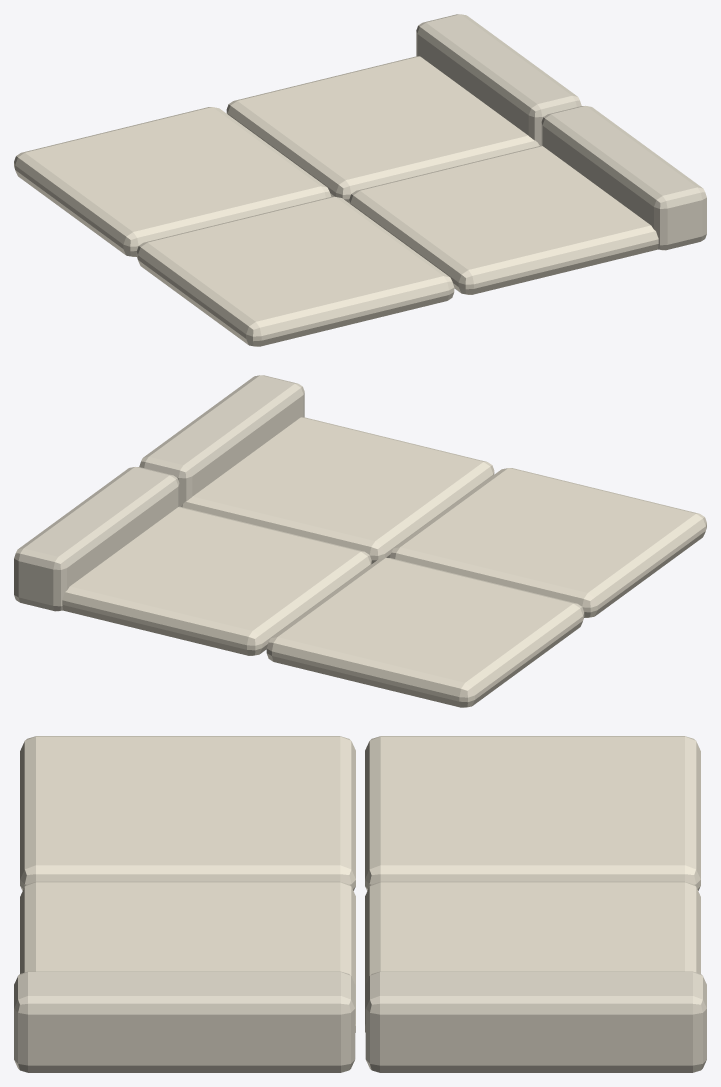
File: Test_CheonRef_PathBorder.fbx
3 views of the same model, one above another, from view 1: azimuth 30°, elevation 25°; view 2: azimuth 150°, elevation 25°; view 3: azimuth 270°, elevation 25° (orthographic). The views are drawn at different scales.
Visible parts, largest first — view 1: BroadPathSlab.004, BroadPathSlab.006, BroadPathSlab.005, BroadPathSlab.007, LowPathEdging, LowPathEdging.001; view 2: BroadPathSlab.005, BroadPathSlab.007, BroadPathSlab.004, BroadPathSlab.006, LowPathEdging.001, LowPathEdging; view 3: BroadPathSlab.004, BroadPathSlab.005, LowPathEdging, LowPathEdging.001, BroadPathSlab.006, BroadPathSlab.007.
Part boxes in pixels (x1=…): BroadPathSlab.004: x1=136, y1=196, x2=454, y2=346; BroadPathSlab.006: x1=349, y1=145, x2=658, y2=294; BroadPathSlab.005: x1=14, y1=107, x2=331, y2=256; BroadPathSlab.007: x1=226, y1=56, x2=539, y2=202; LowPathEdging: x1=541, y1=106, x2=706, y2=250; LowPathEdging.001: x1=416, y1=14, x2=581, y2=145; BroadPathSlab.005: x1=266, y1=557, x2=584, y2=707; BroadPathSlab.007: x1=62, y1=506, x2=371, y2=655; BroadPathSlab.004: x1=389, y1=468, x2=706, y2=617; BroadPathSlab.006: x1=181, y1=417, x2=494, y2=563; LowPathEdging.001: x1=14, y1=467, x2=179, y2=611; LowPathEdging: x1=139, y1=375, x2=304, y2=506; BroadPathSlab.004: x1=20, y1=736, x2=355, y2=890; BroadPathSlab.005: x1=365, y1=736, x2=700, y2=890; LowPathEdging: x1=14, y1=971, x2=355, y2=1072; LowPathEdging.001: x1=365, y1=971, x2=706, y2=1072; BroadPathSlab.006: x1=20, y1=881, x2=355, y2=1032; BroadPathSlab.007: x1=365, y1=881, x2=700, y2=1032.
Bounding box in the file's own units: 211 × 24 × 197.
